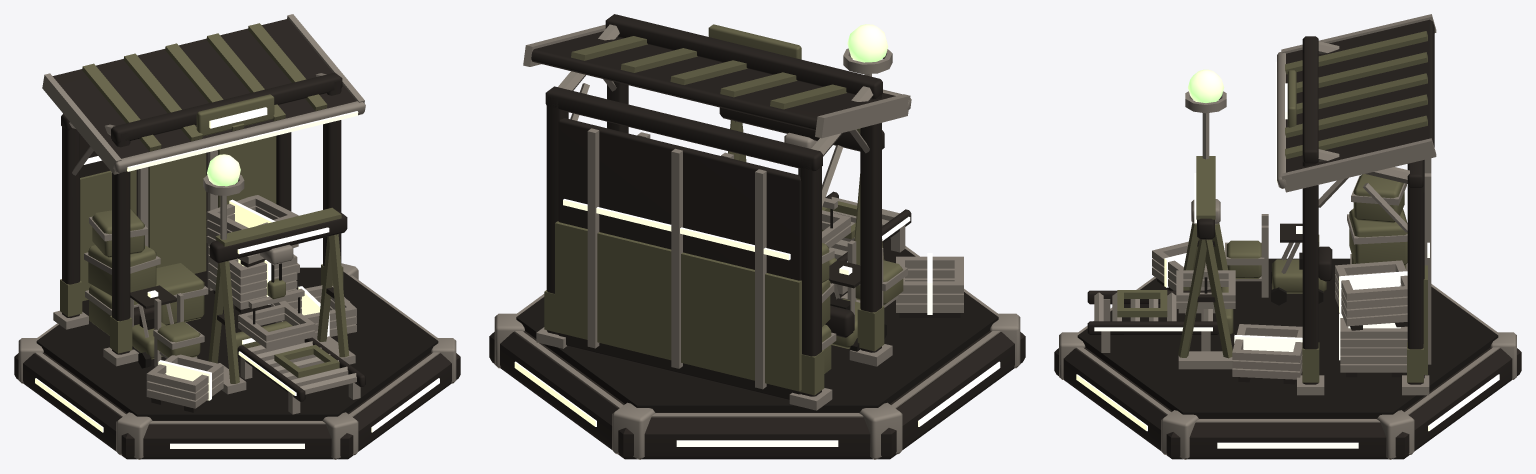
File: fac_works.glb
3 views of the same model, side by side, from view 1: azimuth 30°, elevation 25°; view 2: azimuth 150°, elevation 25°; view 3: azimuth 270°, elevation 25° (orthographic). The views are drawn at different scales.
Parts seen in each view (by area): view 1: base, canopy, stock, forklift, work, lamp; view 2: base, canopy, stock, forklift, lamp, work; view 3: base, canopy, stock, forklift, lamp, work.
Boxes of the visible parts, x1,y1,x2,y2 form: base: [14, 72, 460, 459]; canopy: [42, 14, 365, 174]; stock: [84, 195, 356, 412]; forklift: [130, 285, 204, 368]; work: [238, 263, 315, 348]; lamp: [203, 154, 244, 195]; base: [489, 14, 1025, 459]; canopy: [523, 24, 911, 138]; stock: [822, 243, 963, 373]; forklift: [825, 240, 907, 351]; lamp: [843, 24, 892, 73]; work: [798, 168, 850, 248]; base: [1054, 36, 1521, 459]; canopy: [1275, 14, 1436, 192]; stock: [1152, 174, 1407, 384]; forklift: [1225, 214, 1332, 305]; lamp: [1185, 69, 1226, 113]; work: [1176, 242, 1235, 308].
Size of the model in its own units: 1.8 by 1.45 by 2.05.
